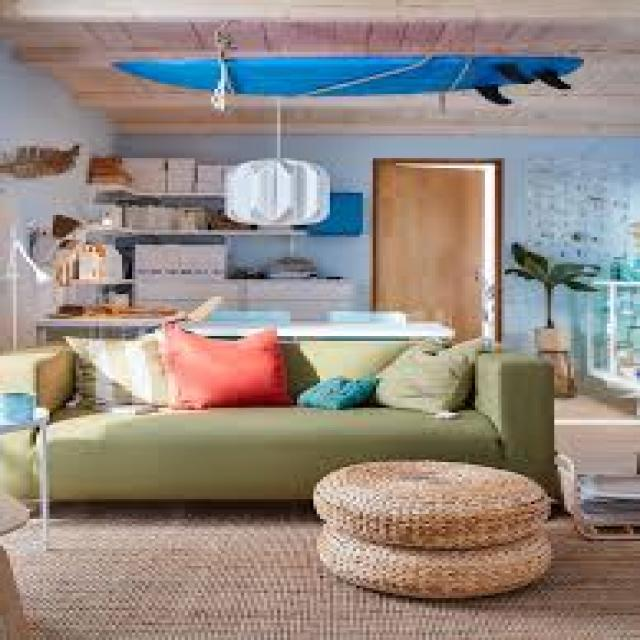Sofa: (28, 323, 565, 510)
